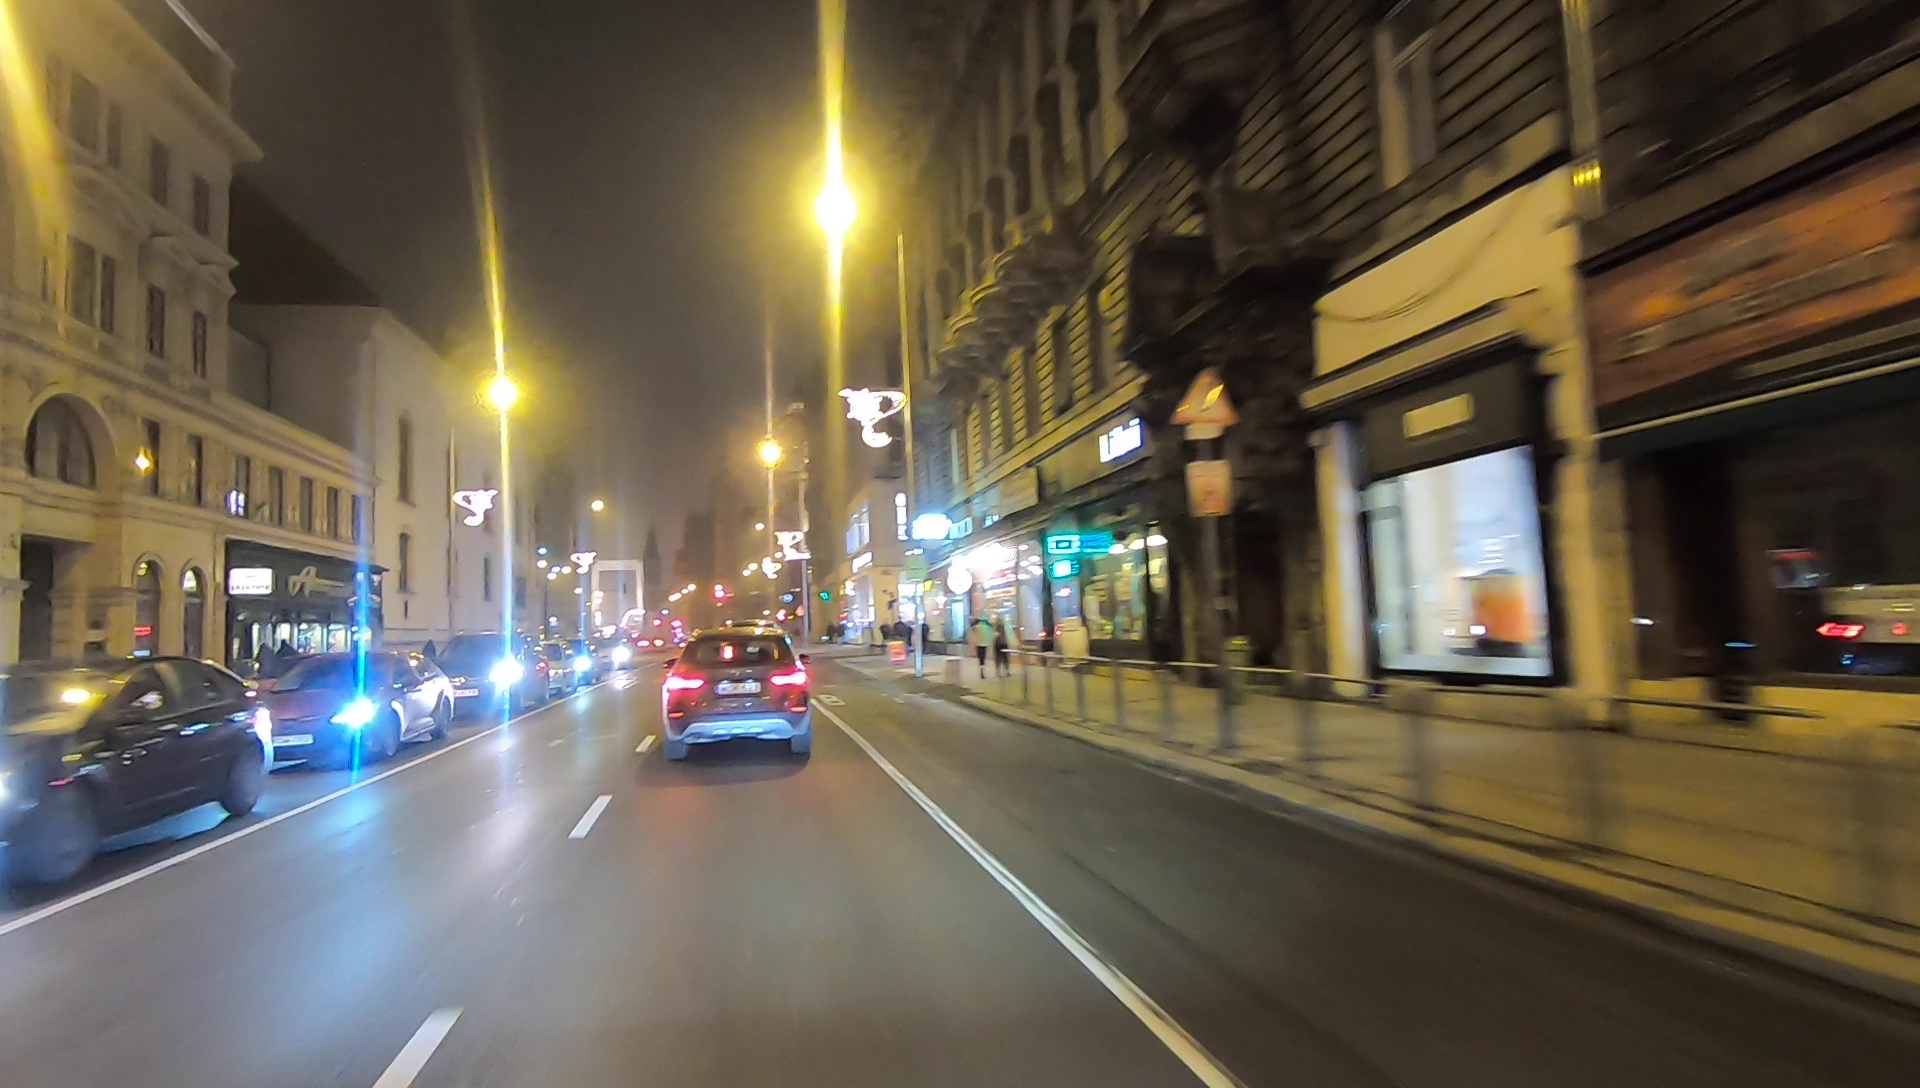person: (992, 613, 1016, 681), (968, 613, 992, 680)
